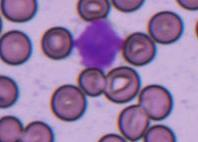L: (74, 17, 126, 69)
